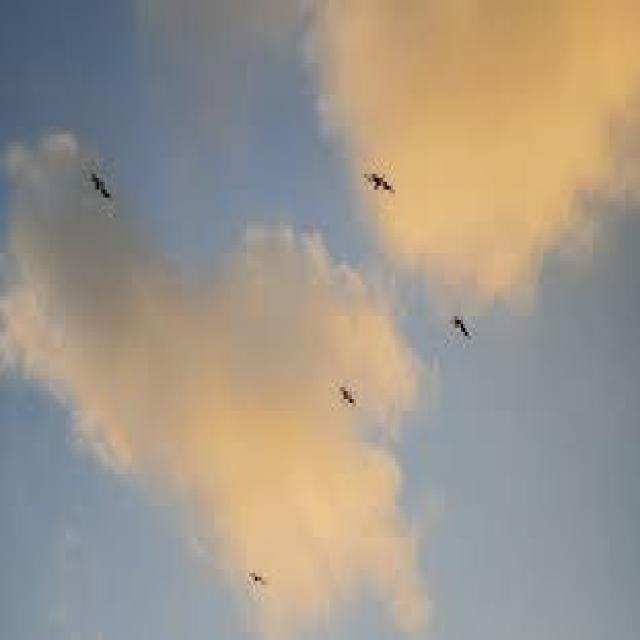bird: (440, 296, 482, 379), (361, 158, 413, 225), (334, 366, 374, 448), (84, 146, 118, 221), (240, 549, 268, 616)
